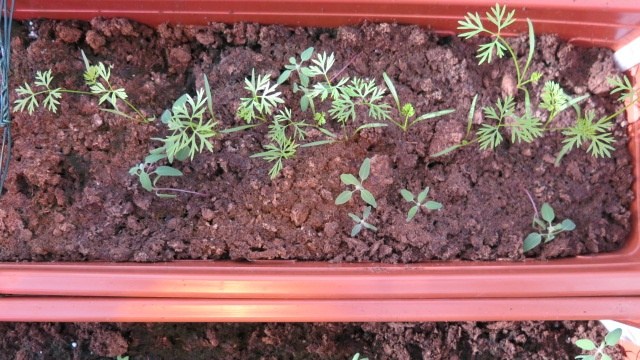crop: (452, 7, 560, 154), (312, 44, 457, 141), (556, 72, 634, 164), (15, 70, 133, 114), (162, 92, 214, 169), (260, 107, 303, 177), (239, 73, 286, 123)
weed: (394, 184, 446, 223)
